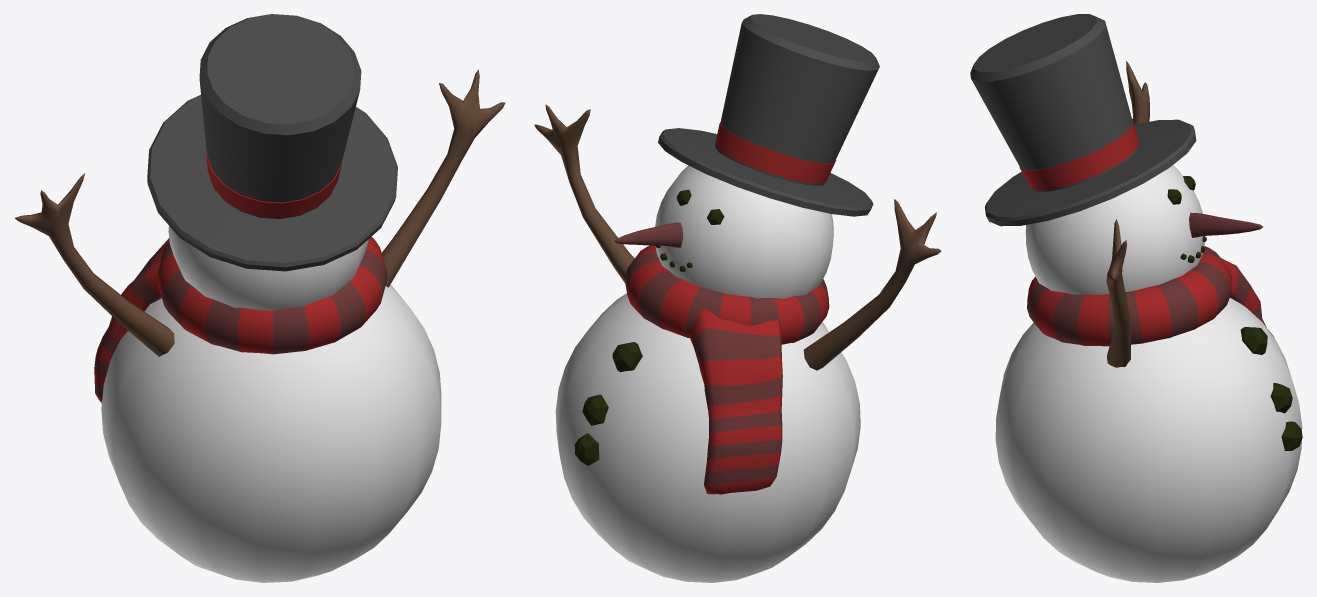
The model's file is geo_bonhommeDeNeige.fbx.
3 views of the same model, side by side, from view 1: azimuth 30°, elevation 25°; view 2: azimuth 150°, elevation 25°; view 3: azimuth 270°, elevation 25° (orthographic). The views are drawn at different scales.
Visible parts, largest first — view 1: geo_bonhommeDeNeige; view 2: geo_bonhommeDeNeige; view 3: geo_bonhommeDeNeige.
Part boxes in pixels (bbox=[...]): geo_bonhommeDeNeige: bbox=[15, 14, 505, 582]; geo_bonhommeDeNeige: bbox=[534, 14, 941, 582]; geo_bonhommeDeNeige: bbox=[970, 14, 1302, 582].
Bounding box in the file's own units: 146 × 172 × 98.52.
